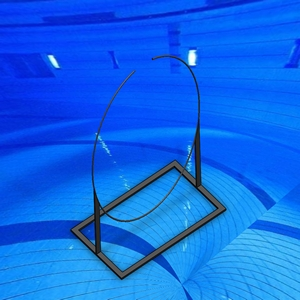circle: (70, 54, 226, 281)
